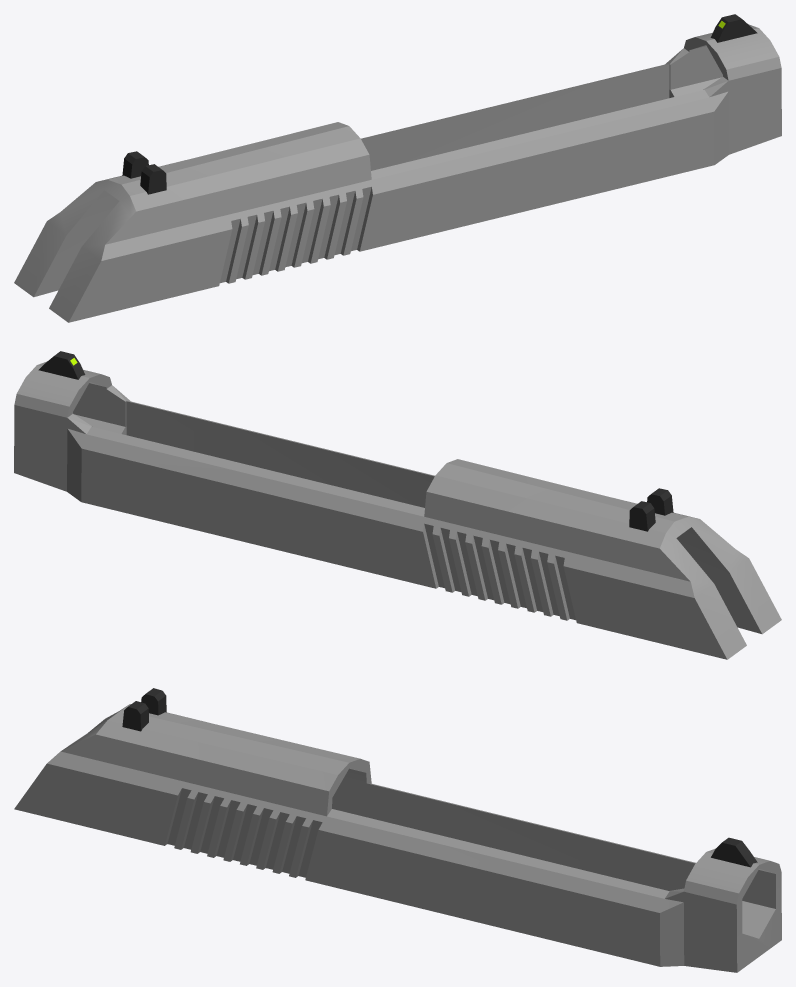
Rendered from Pistol1_01_2.fbx.
The picture shows the model from 3 angles, top to bottom: view 1: azimuth 30°, elevation 25°; view 2: azimuth 150°, elevation 25°; view 3: azimuth 330°, elevation 25°; orthographic projection.
Parts seen in each view (by area): view 1: Pistol1_01_2; view 2: Pistol1_01_2; view 3: Pistol1_01_2.
Boxes of the visible parts, x1=… form: Pistol1_01_2: x1=14, y1=14, x2=781, y2=322; Pistol1_01_2: x1=14, y1=351, x2=781, y2=659; Pistol1_01_2: x1=14, y1=688, x2=781, y2=972.
Size of the model in its own units: 0.2348 by 0.0363 by 0.0308.
